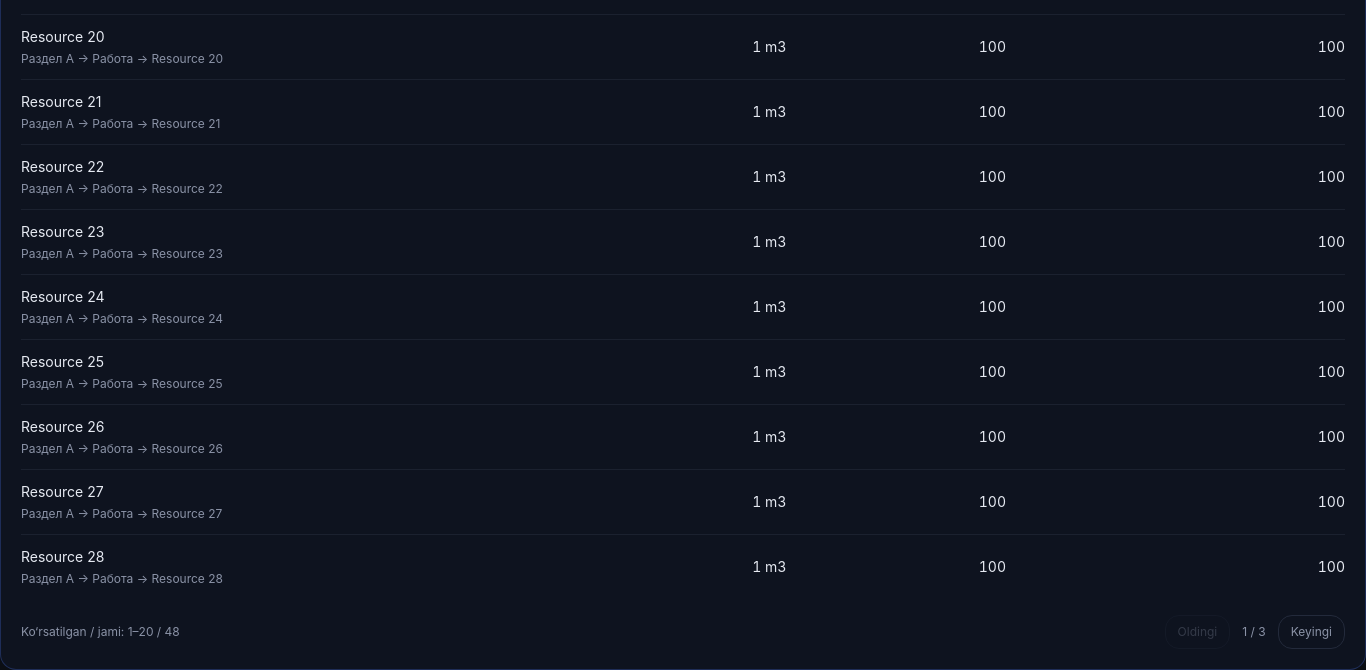
Test: paginates all source rows rather than silently taking the first candidates
(page scrolled)
Click the button "Keyingi" at coordinates (1311, 632), box top-left (1278, 615), bottom-right (1345, 649)
(page scrolled)
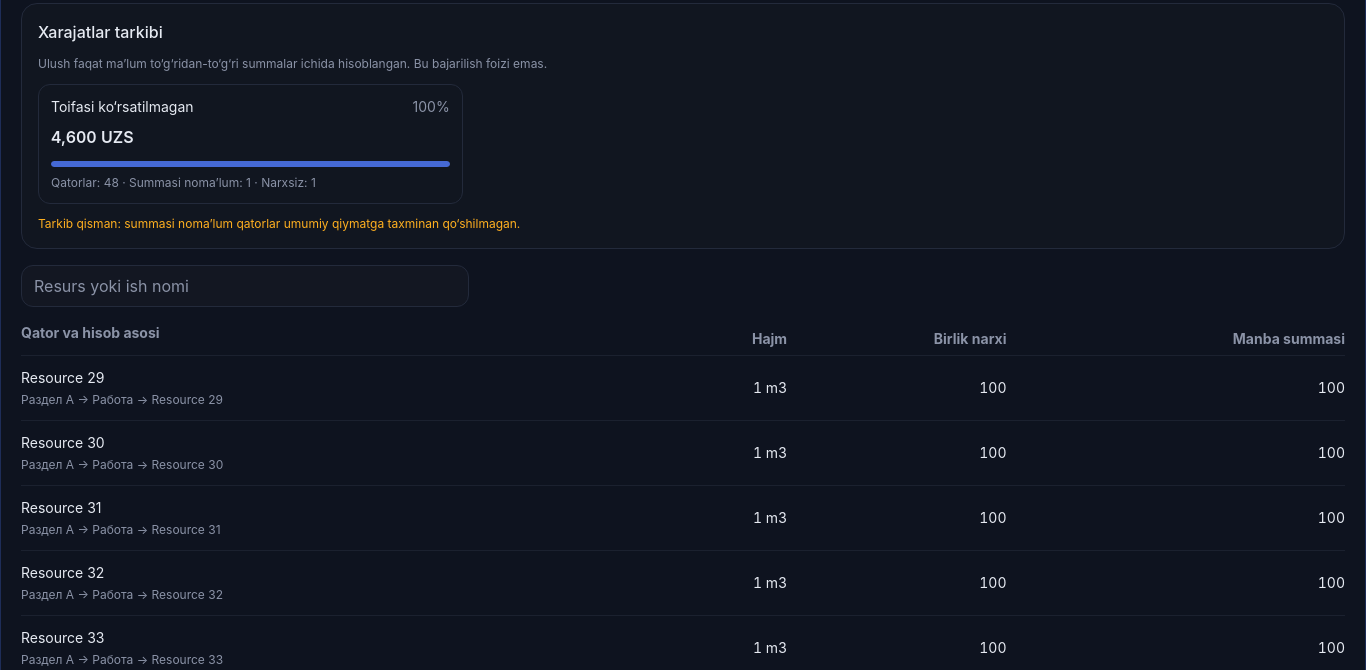
Type "Resource 54" into the field at coordinates (245, 286), box top-left (21, 265), bottom-right (469, 307)
(page scrolled)
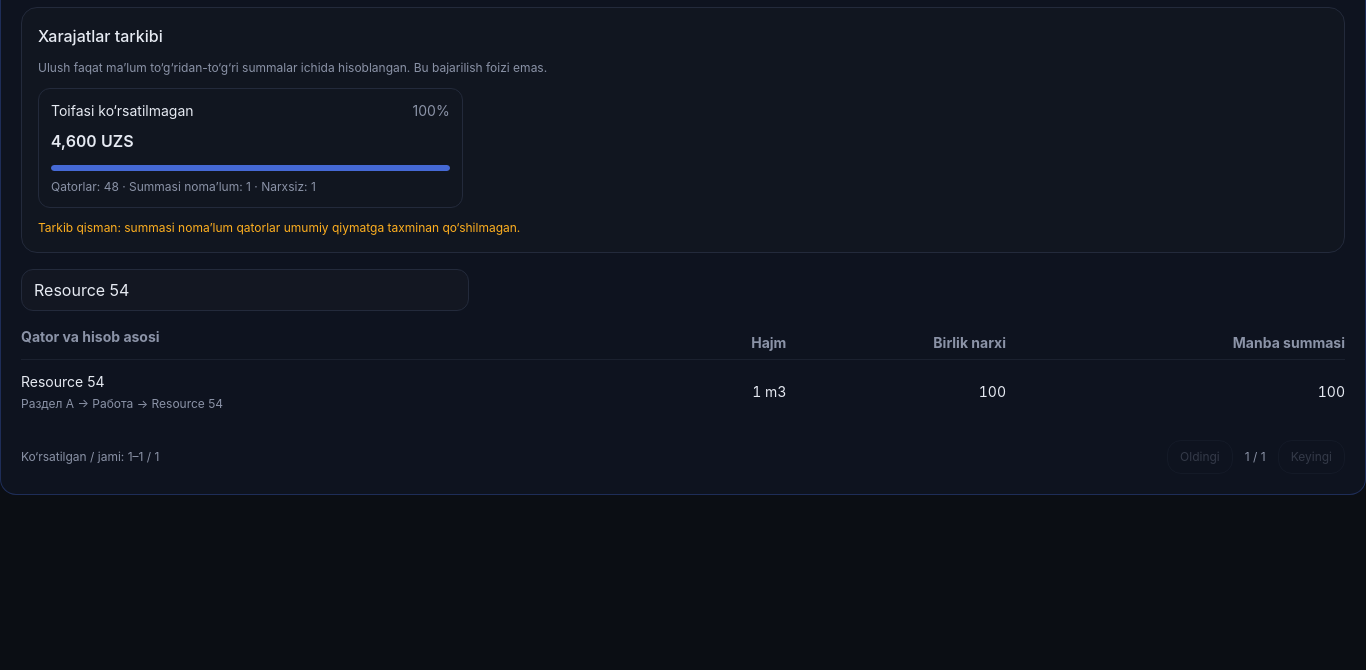
Result: the button "Resource 54" is shown at top-left (21, 372), bottom-right (104, 392)
